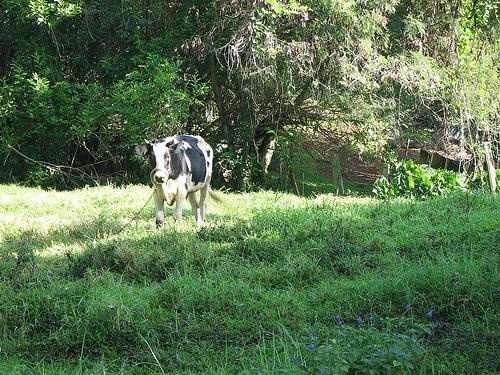cow: (138, 135, 215, 232)
